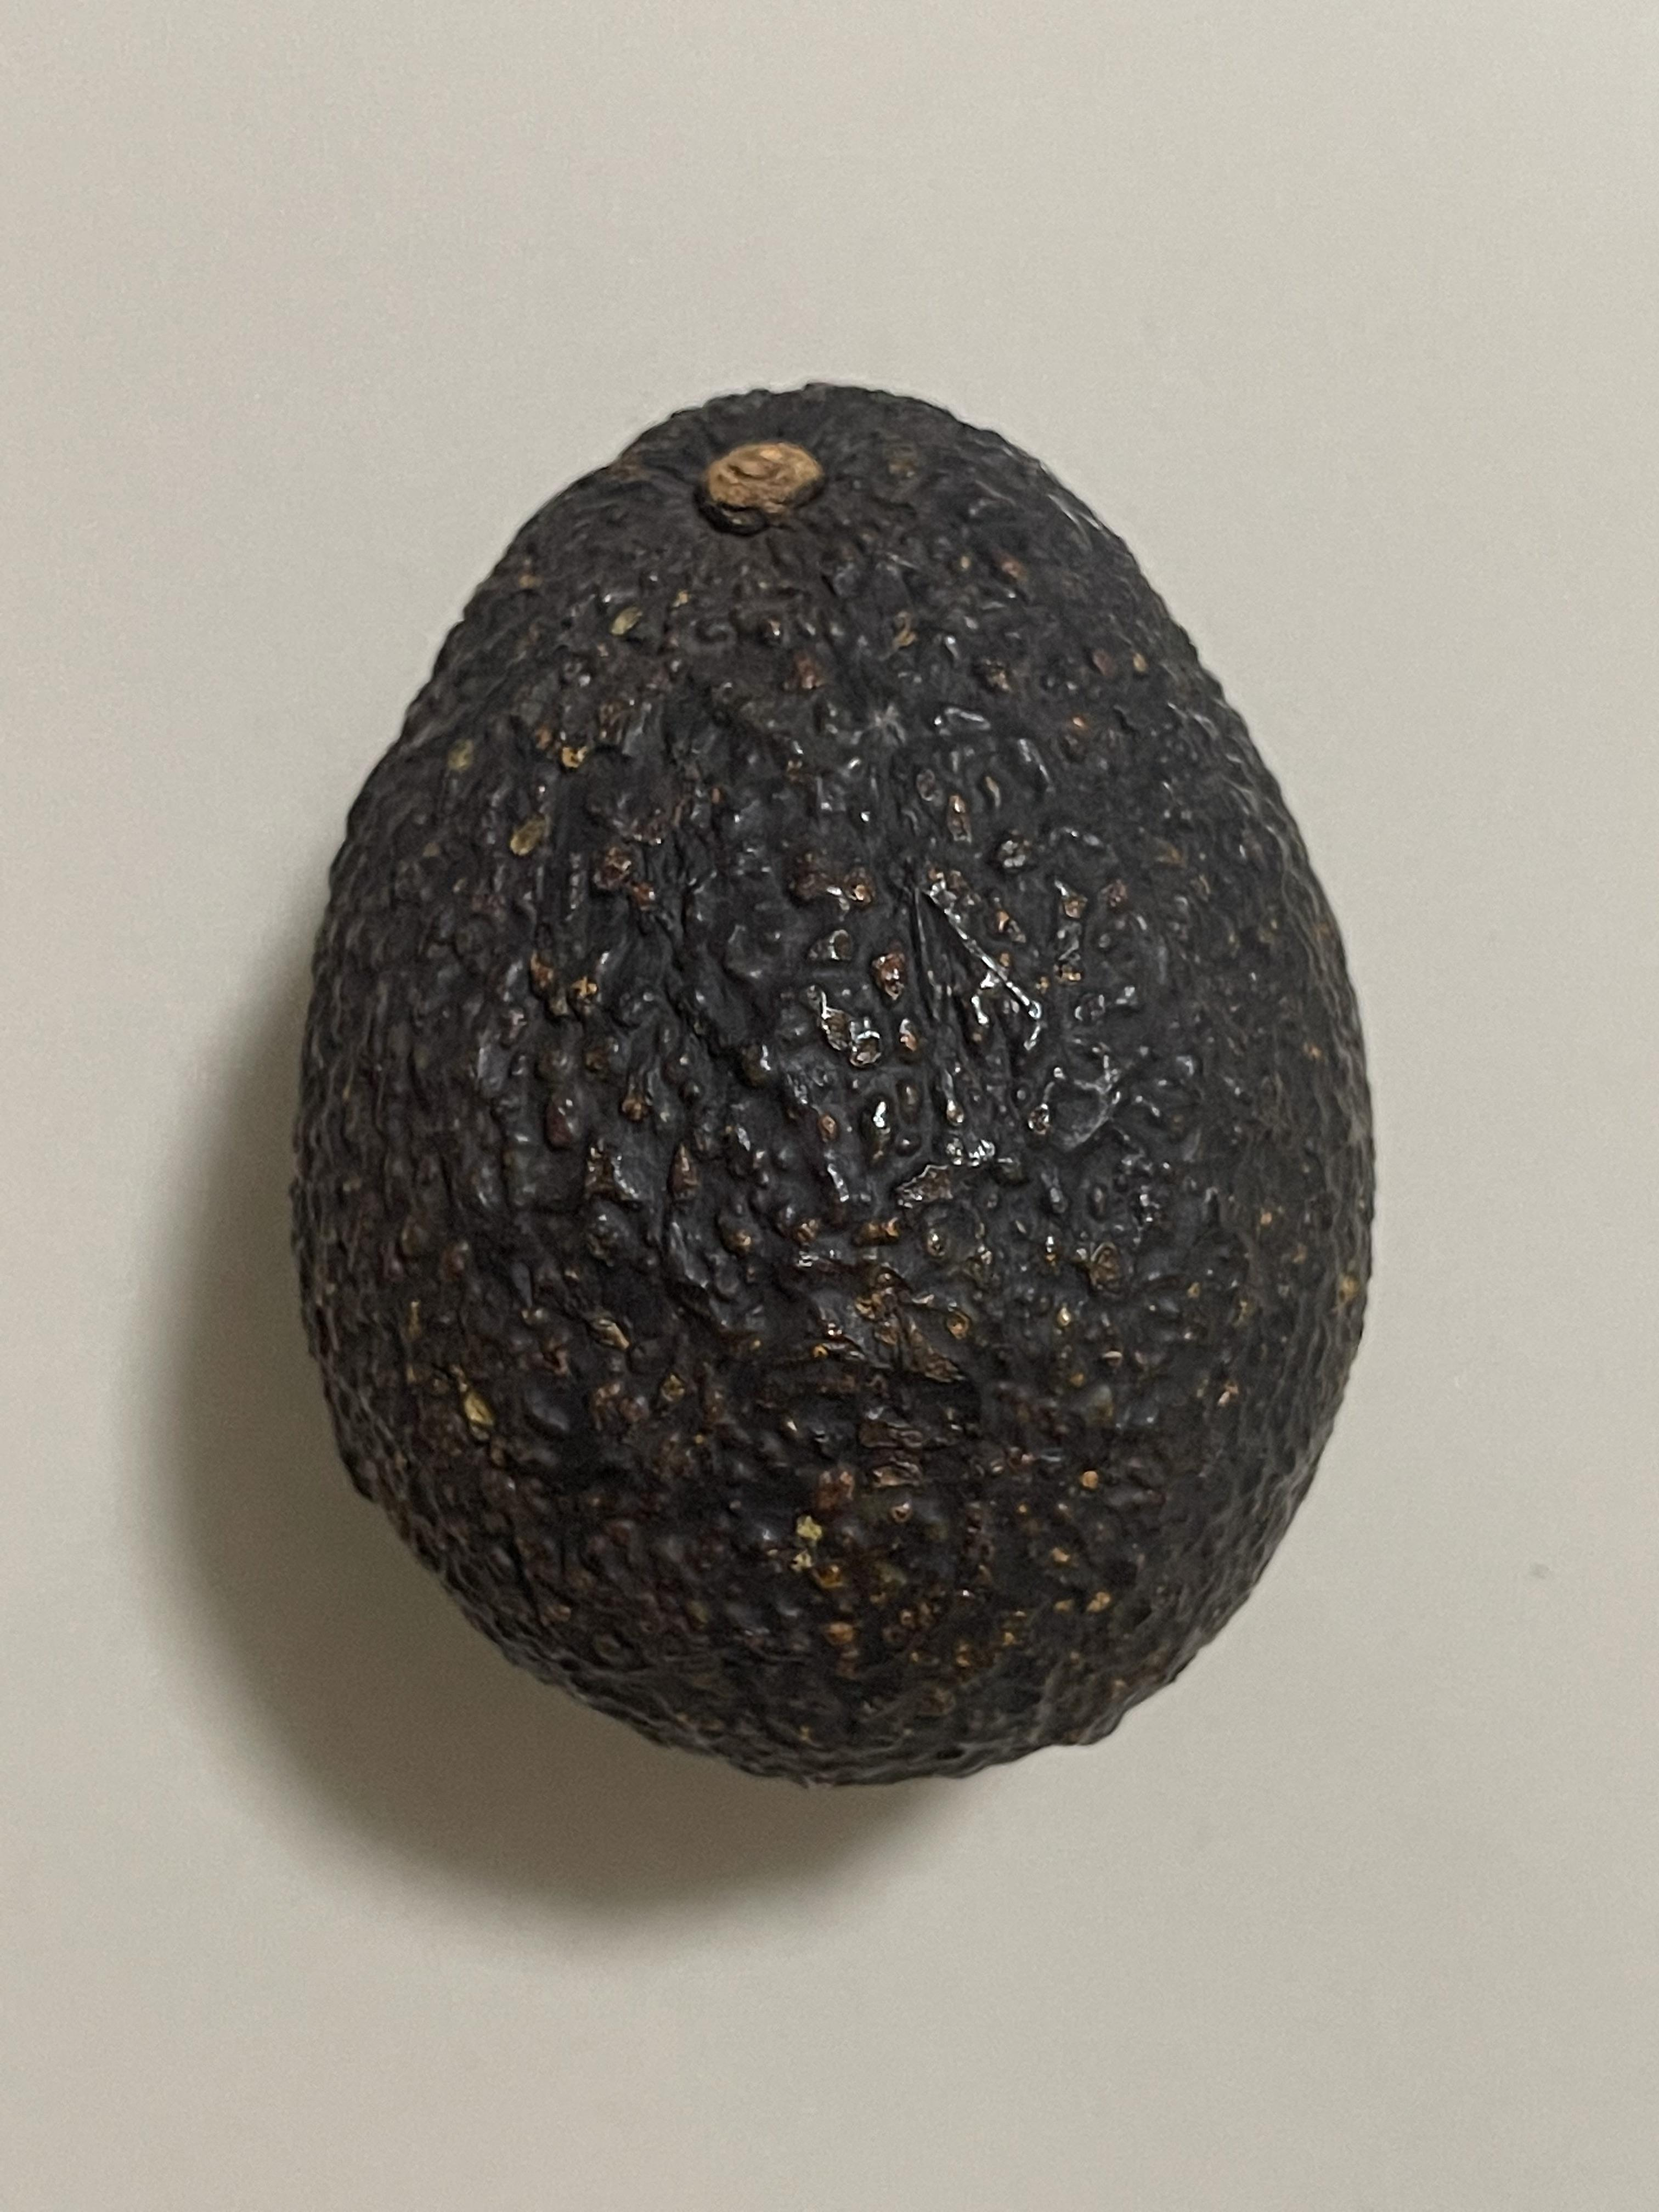Level2: (274, 357, 1401, 1810)
